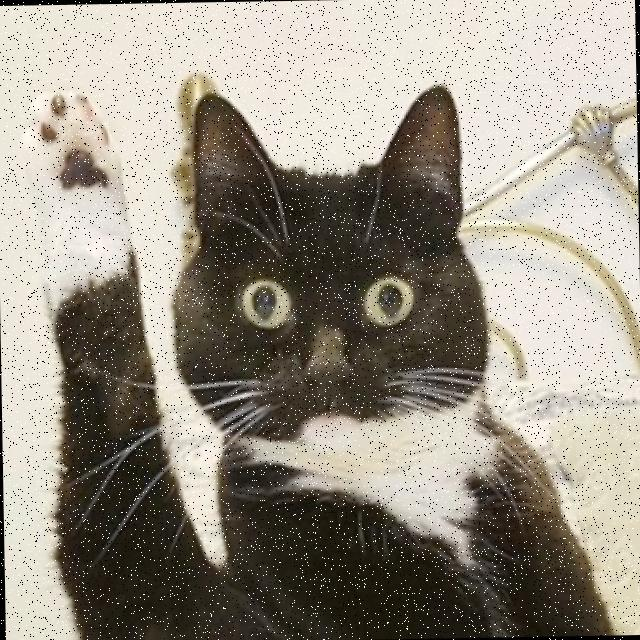Surprised: (208, 227, 460, 460)
